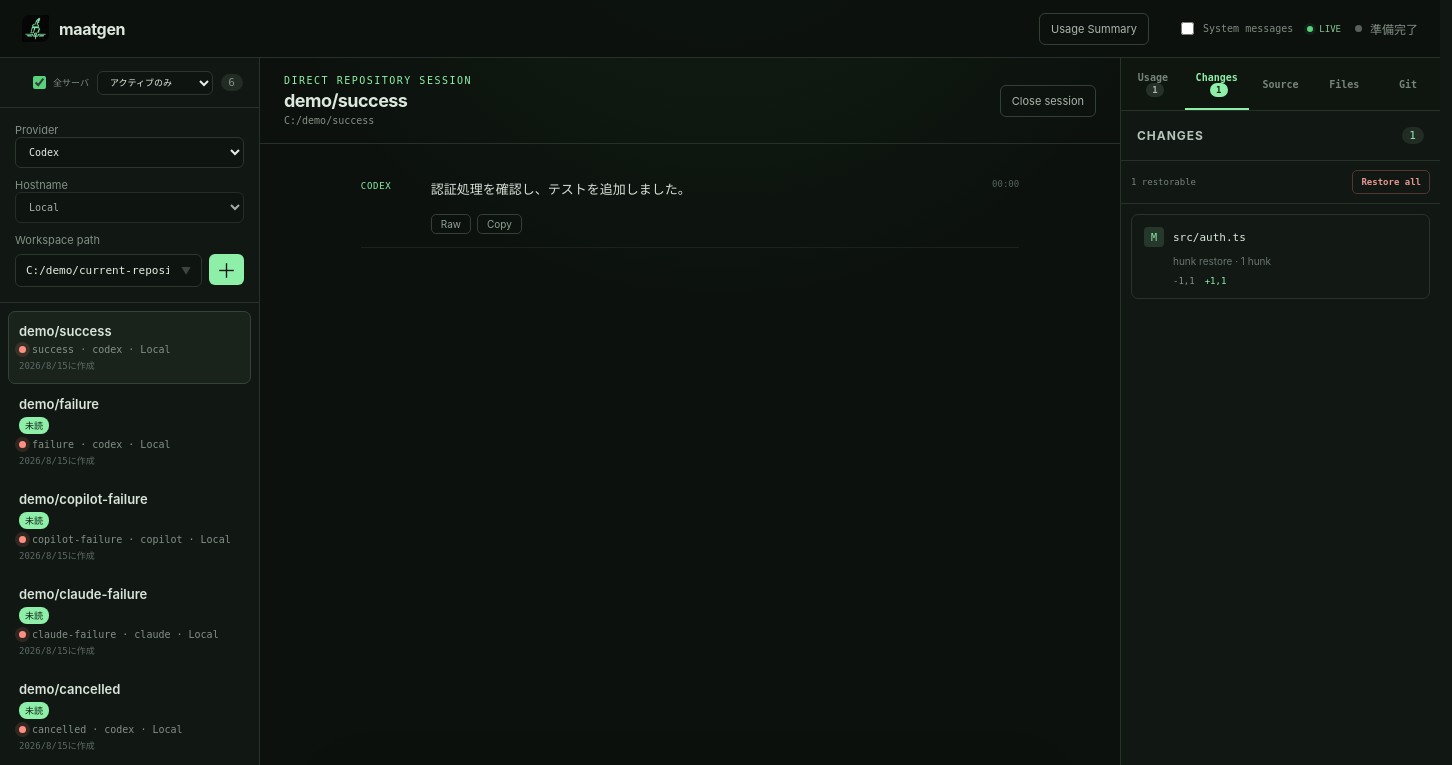
Test case: App with MockAgentApi › shows source line counts by language in the コード数 tab
What coordinates should you click on to do the following:
click the tab with id "source-stats-tab"
I would click on:
 (1280, 84)
Its box is [1249,58,1312,110].
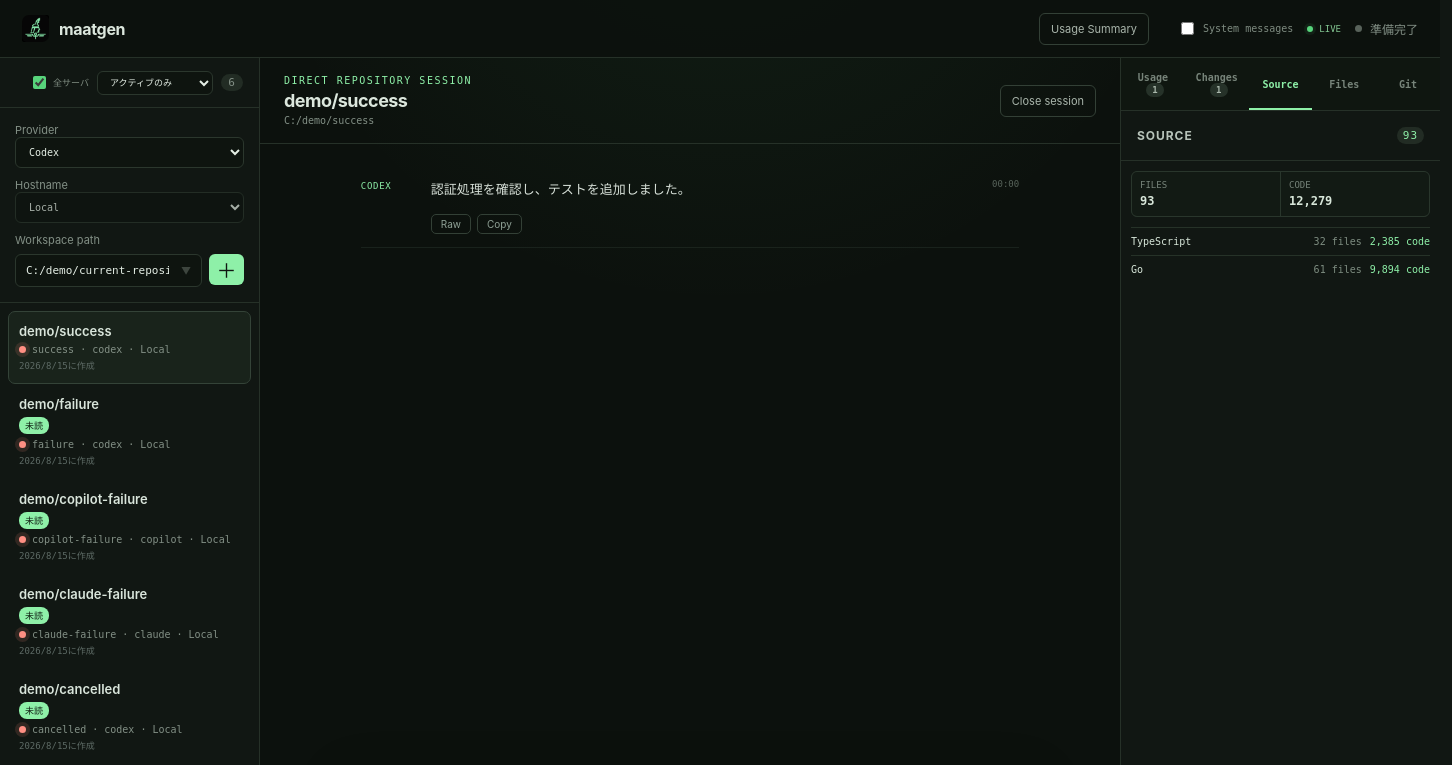
Result: the panel with id "source-stats-panel" is shown at [1121,111,1440,293]
Result: the panel with id "source-stats-panel" shows "Go" at [1131,264,1143,275]
Result: the panel with id "source-stats-panel" shows "9,894 code" at [1370,264,1430,275]
